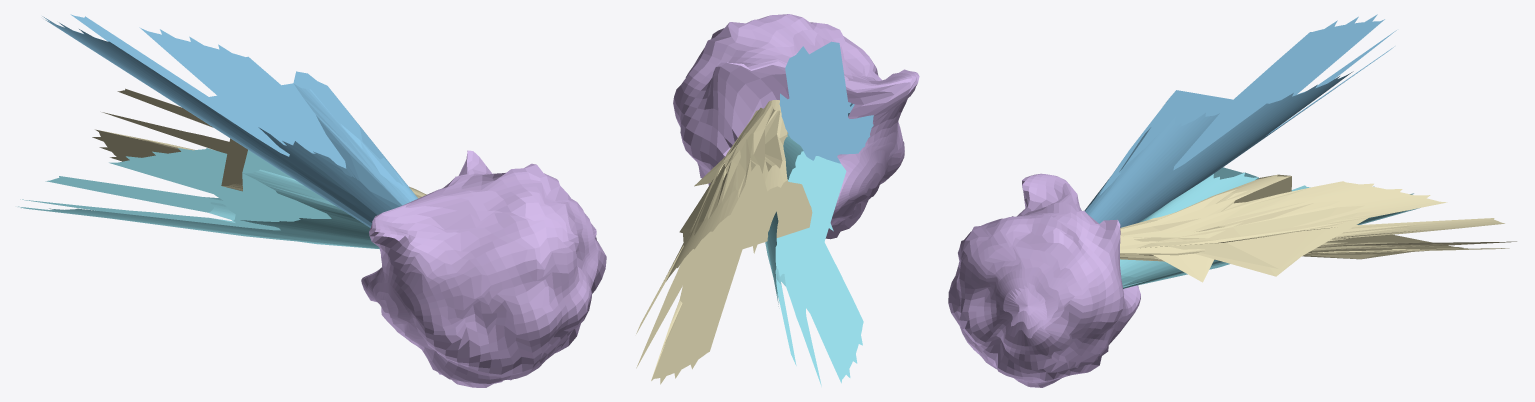
File: cometa.gltf
3 renders of one model, left to right at view 1: azimuth 30°, elevation 25°; view 2: azimuth 150°, elevation 25°; view 3: azimuth 270°, elevation 25°, orthographic. The views are drawn at different scales.
Visible parts, largest first — view 1: Body.001, Tail.001, Tail.002, Tail.003; view 2: Body.001, Tail.003, Tail.002, Tail.001; view 3: Body.001, Tail.003, Tail.001, Tail.002.
Boxes of the visible parts, <box> form: Body.001: <box>361,150,606,387</box>; Tail.001: <box>42,14,417,227</box>; Tail.002: <box>18,148,379,249</box>; Tail.003: <box>92,88,426,198</box>; Body.001: <box>673,14,919,239</box>; Tail.003: <box>636,100,812,384</box>; Tail.002: <box>765,134,863,386</box>; Tail.001: <box>779,41,873,163</box>; Body.001: <box>948,173,1140,387</box>; Tail.003: <box>1120,174,1516,282</box>; Tail.001: <box>1084,14,1396,227</box>; Tail.002: <box>1120,167,1419,288</box>.
Size of the model in its own units: 4.4 by 3.3 by 6.71.
